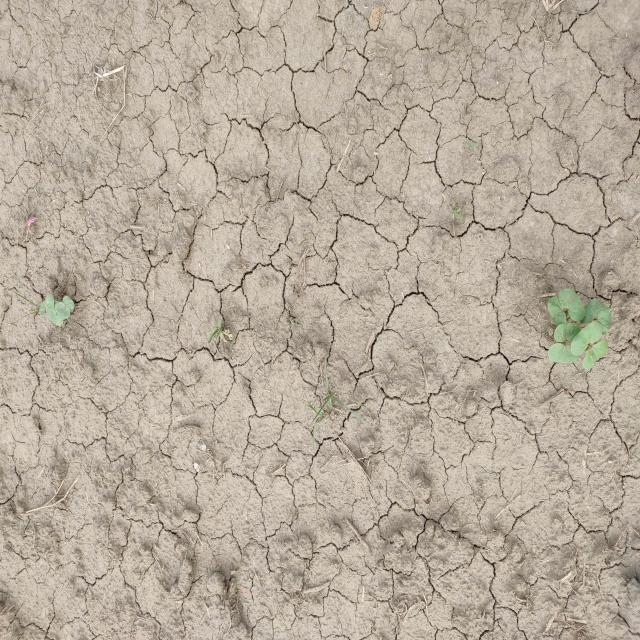seedling: (570, 322, 602, 356), (559, 288, 585, 322), (583, 340, 608, 369), (548, 343, 580, 363), (580, 298, 604, 323), (548, 296, 567, 326), (554, 323, 581, 342), (597, 306, 611, 333), (47, 308, 63, 327), (57, 302, 70, 319), (54, 300, 64, 321), (63, 296, 74, 310), (46, 294, 54, 313), (39, 300, 47, 316)
